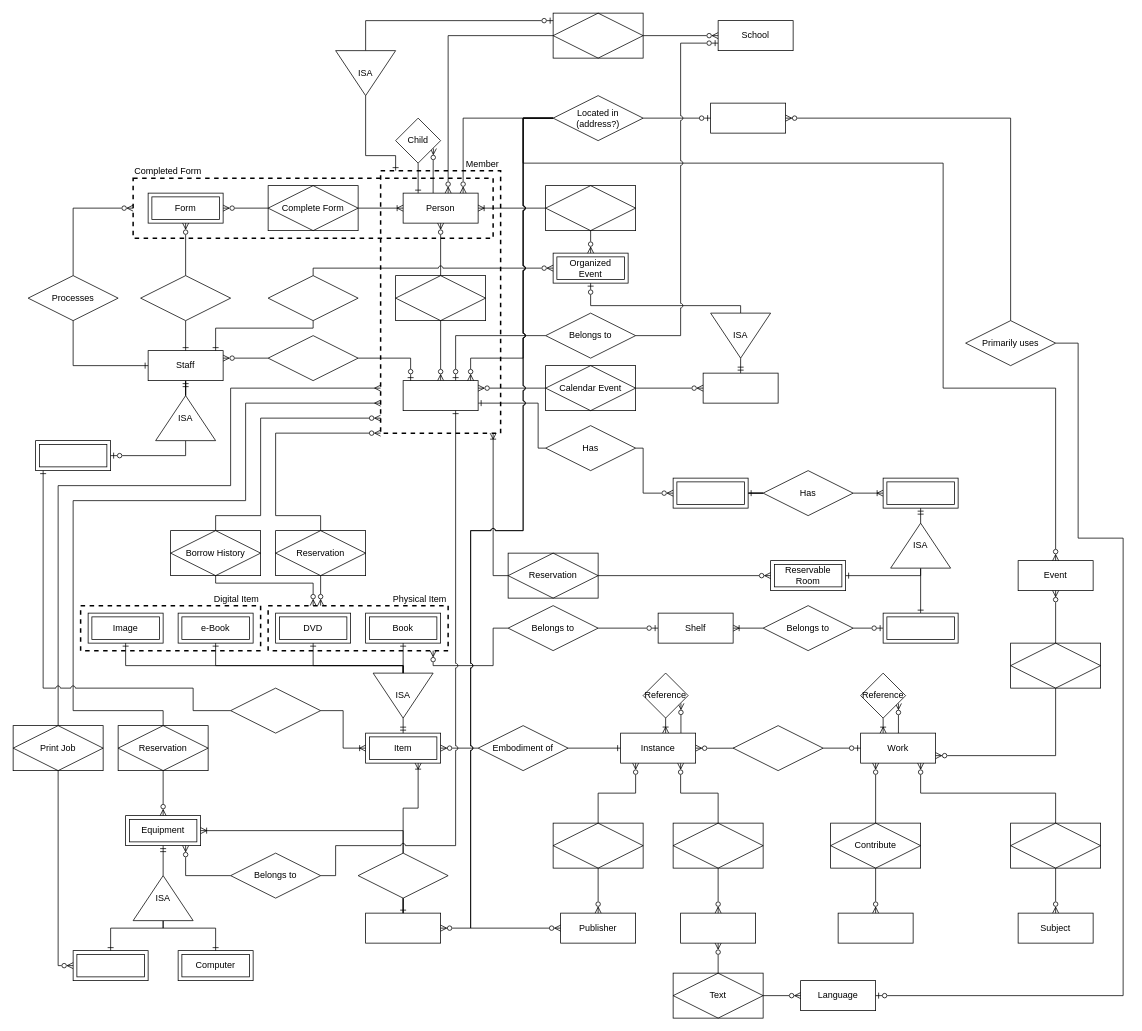
Image size: 1142x1031. Some labels were removed from this diagram. The box of each missing label's shape, as (x1, y1, x2, y2) in pixels:
Agent: (837, 912, 913, 943)
Attendance: (545, 185, 636, 231)
Bookstack: (882, 612, 958, 643)
Catalogs: (230, 687, 321, 733)
Create: (140, 275, 231, 321)
Describe: (1010, 642, 1101, 688)
Discuss: (1010, 822, 1101, 868)
Floor: (672, 477, 748, 508)
Format: (680, 912, 756, 943)
Instance of: (732, 725, 823, 771)
Issue: (552, 822, 643, 868)
Librarian: (35, 440, 111, 471)
Library: (402, 380, 478, 411)
Library Event: (702, 372, 778, 403)
Media: (672, 822, 763, 868)
Membership: (395, 275, 486, 321)
Organize: (267, 275, 358, 321)
Printer: (72, 950, 148, 981)
Region: (710, 102, 786, 133)
Room: (882, 477, 958, 508)
Student: (552, 12, 643, 58)
Supplied by: (357, 852, 448, 898)
Vendor: (365, 912, 441, 943)
Works For: (267, 335, 358, 381)
